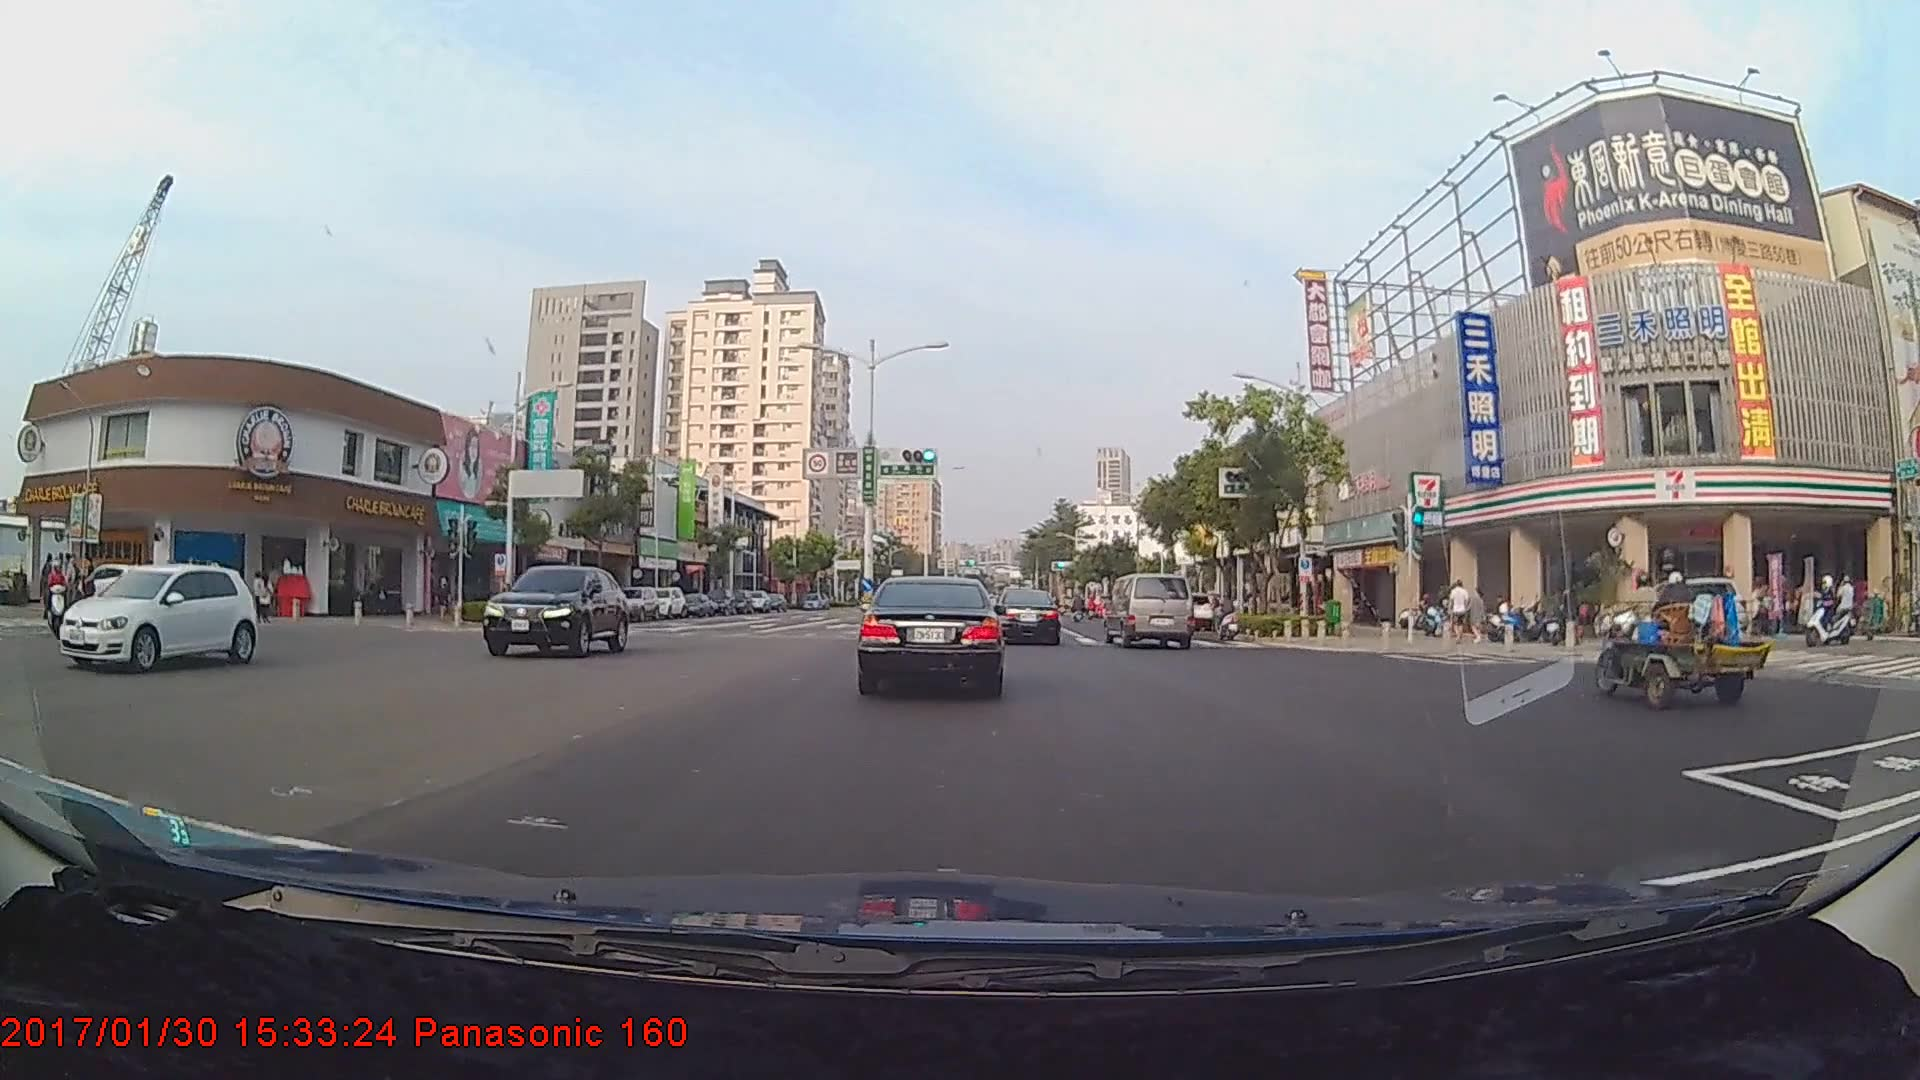pedestrian: (1448, 580, 1472, 646), (435, 574, 455, 622)
rider: (1796, 570, 1863, 650), (40, 557, 83, 634), (1214, 590, 1250, 648)
vehicle: (78, 558, 254, 668), (858, 571, 1005, 695), (486, 562, 629, 658), (1593, 574, 1741, 640), (1106, 572, 1193, 650), (991, 588, 1063, 646), (612, 584, 661, 622)
